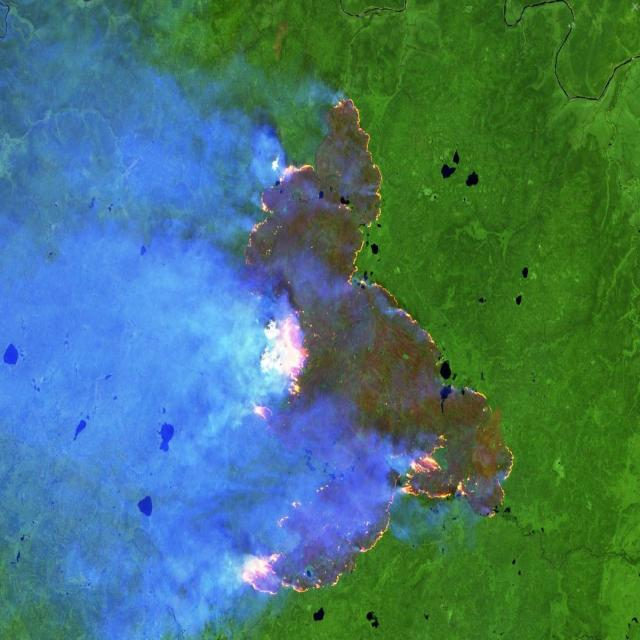fire: (166, 87, 520, 602)
